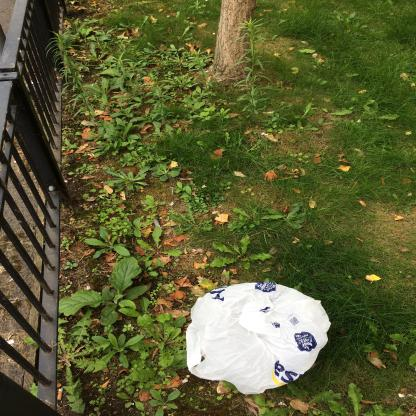trash: (178, 276, 343, 401)
